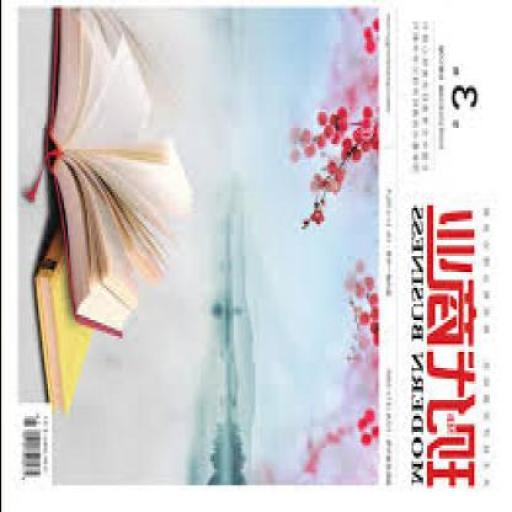paper: (0, 1, 511, 512), (47, 14, 197, 344), (35, 226, 92, 414), (79, 38, 150, 152)
